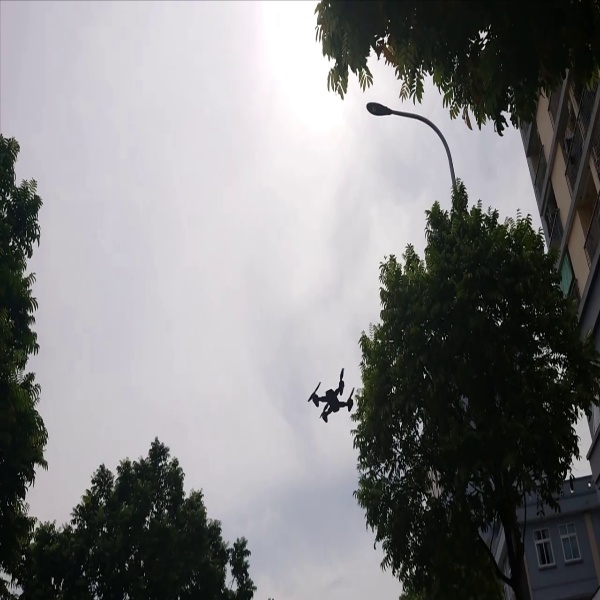drone: (302, 363, 355, 428)
